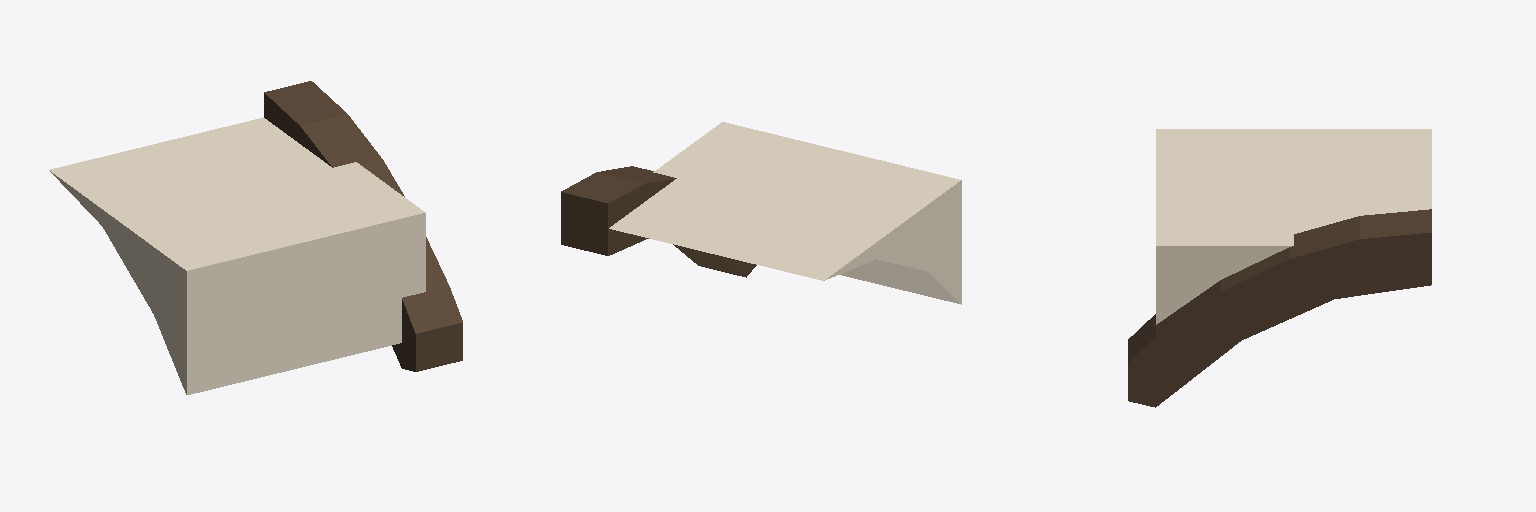
Rendered from Stucco_Arch_Half_Outer.obj.
3 views of the same model, side by side, from view 1: azimuth 30°, elevation 25°; view 2: azimuth 150°, elevation 25°; view 3: azimuth 270°, elevation 25° (orthographic).
Visible parts, largest first — view 1: object1, object2; view 2: object1, object2; view 3: object1, object2.
Boxes of the visible parts, x1=… form: object1: x1=49, y1=117, x2=425, y2=394; object2: x1=264, y1=81, x2=462, y2=371; object1: x1=609, y1=122, x2=961, y2=304; object2: x1=561, y1=166, x2=756, y2=277; object1: x1=1156, y1=129, x2=1431, y2=324; object2: x1=1128, y1=209, x2=1431, y2=407.
Bounding box in the file's own units: 1.1 × 0.7 × 1.1.